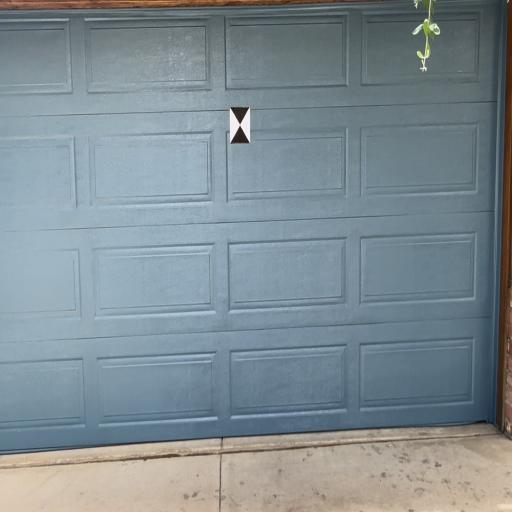target: (230, 107, 250, 144)
